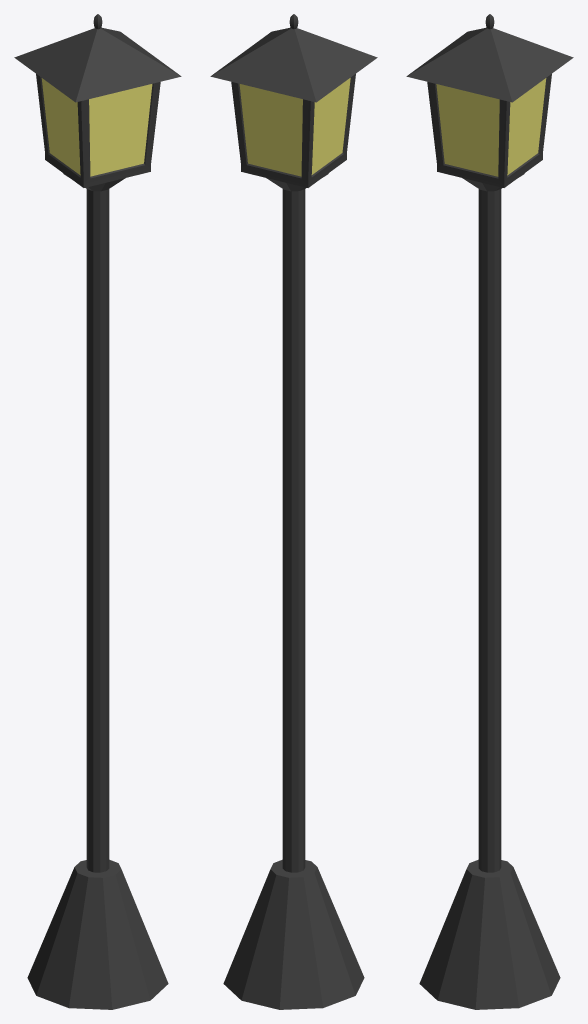
File: streetlight.fbx
3 renders of one model, left to right at view 1: azimuth 30°, elevation 25°; view 2: azimuth 150°, elevation 25°; view 3: azimuth 330°, elevation 25°, orthographic.
Visible parts, largest first — view 1: pCylinder5; view 2: pCylinder5; view 3: pCylinder5.
Part boxes in pixels (x1=…): pCylinder5: x1=14, y1=14, x2=181, y2=1009; pCylinder5: x1=210, y1=14, x2=377, y2=1009; pCylinder5: x1=406, y1=14, x2=573, y2=1009.
Bounding box in the file's own units: 1.23 × 9.2 × 1.15.
